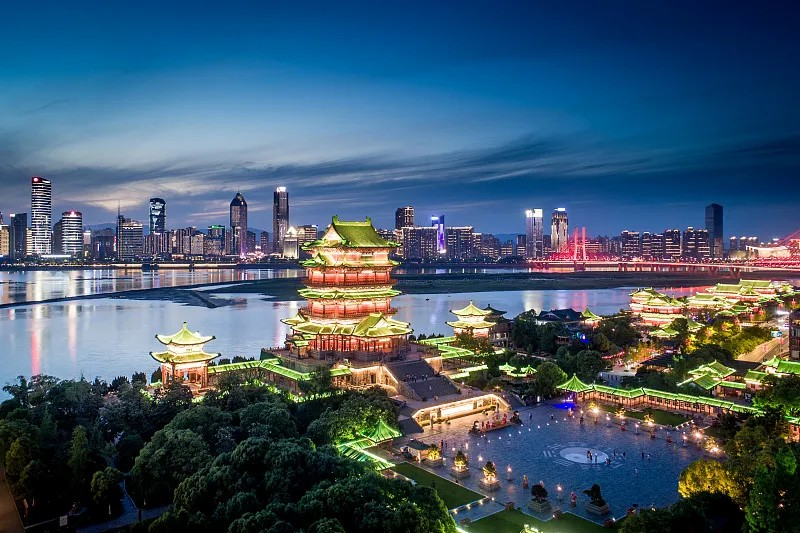Teng: (279, 215, 416, 355)
